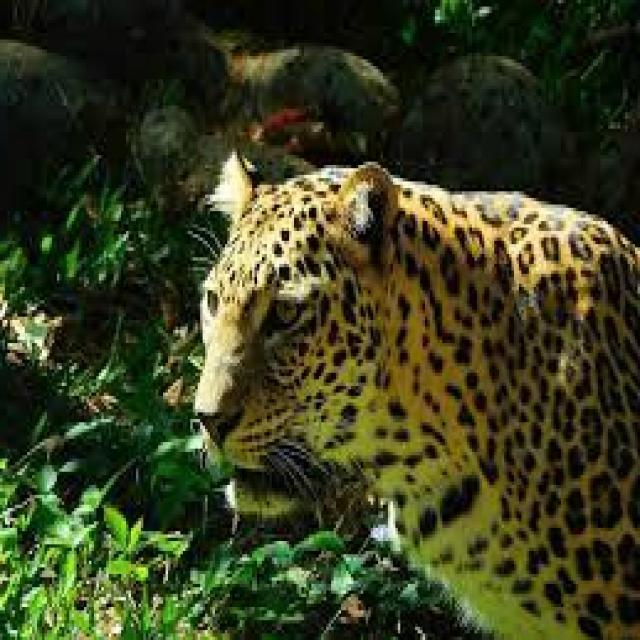leopard: (198, 155, 640, 637)
